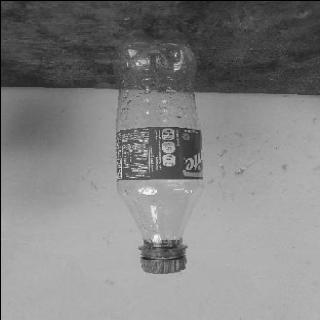plastic_bottles: (110, 24, 204, 274)
